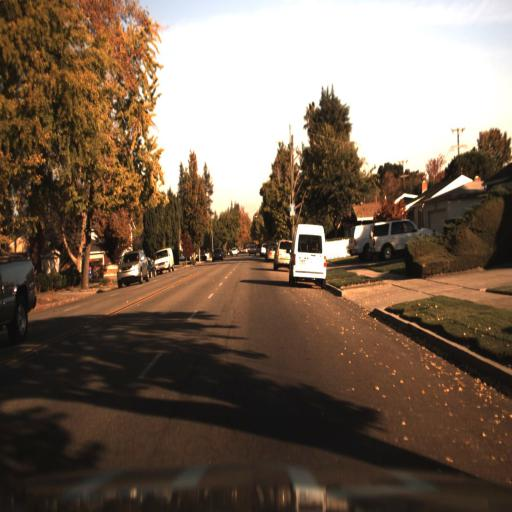car: (0, 249, 37, 346), (287, 218, 331, 288), (369, 212, 435, 256), (288, 222, 329, 288), (115, 247, 147, 291), (341, 218, 371, 260), (347, 219, 370, 266), (154, 243, 177, 277), (273, 233, 292, 274), (151, 244, 175, 276), (147, 250, 157, 282), (264, 239, 275, 267)
